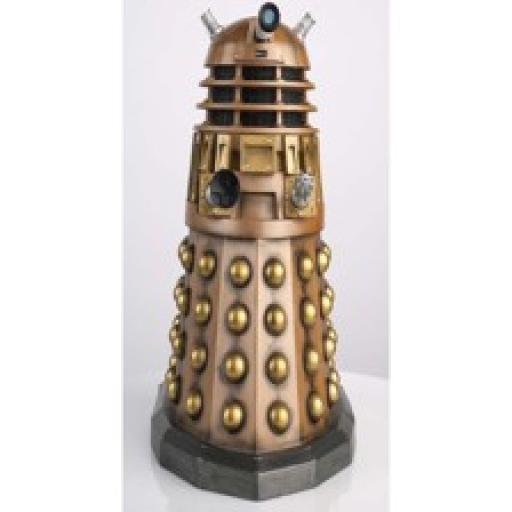dalek: (145, 2, 354, 497)
